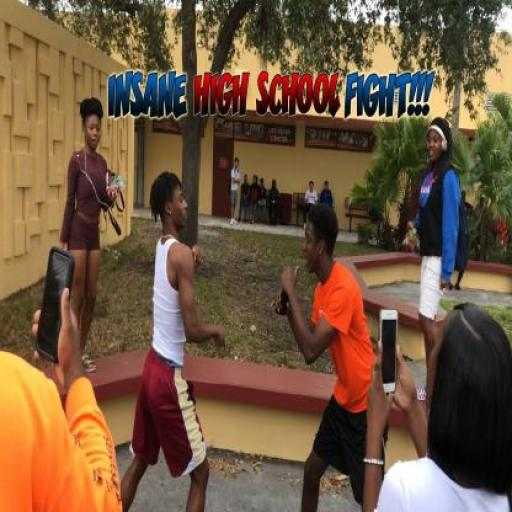Fighting: (123, 167, 384, 512)
